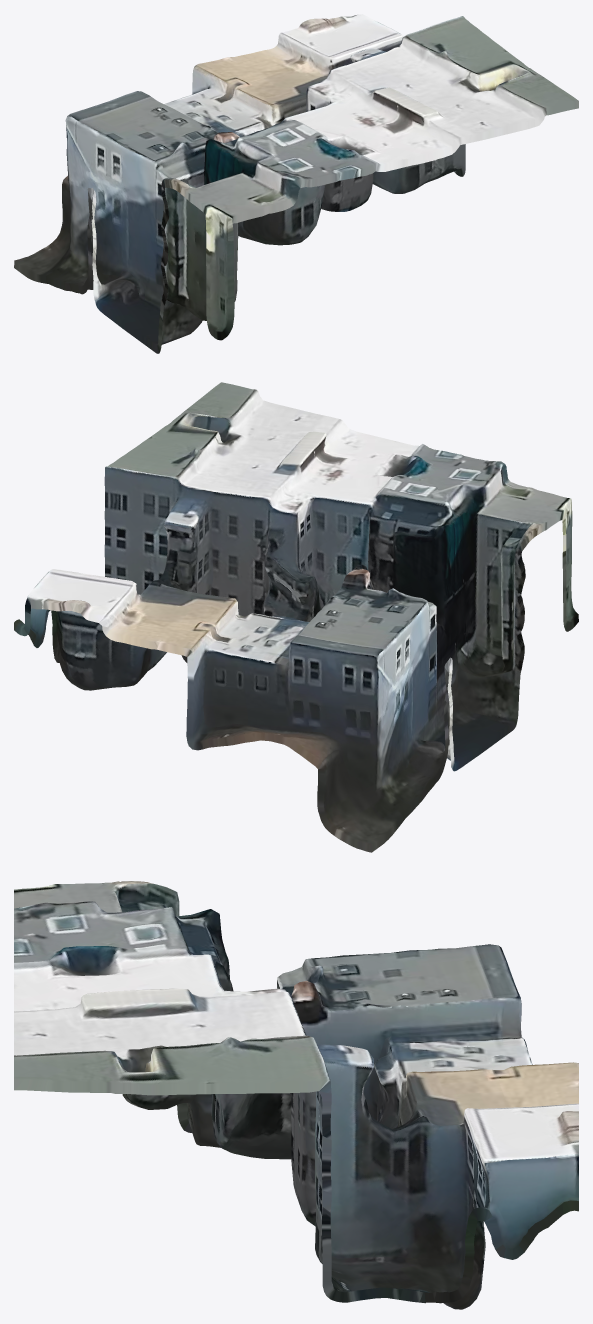
File: z20-167743-405197-h0-yup-uvflip-v3-world.glb
3 views of the same model, one above another, from view 1: azimuth 30°, elevation 25°; view 2: azimuth 150°, elevation 25°; view 3: azimuth 270°, elevation 25° (orthographic). The views are drawn at different scales.
Bounding box in the file's own units: 30.2 × 19.16 × 30.32.
Materials: 1 (1 with a texture image).
